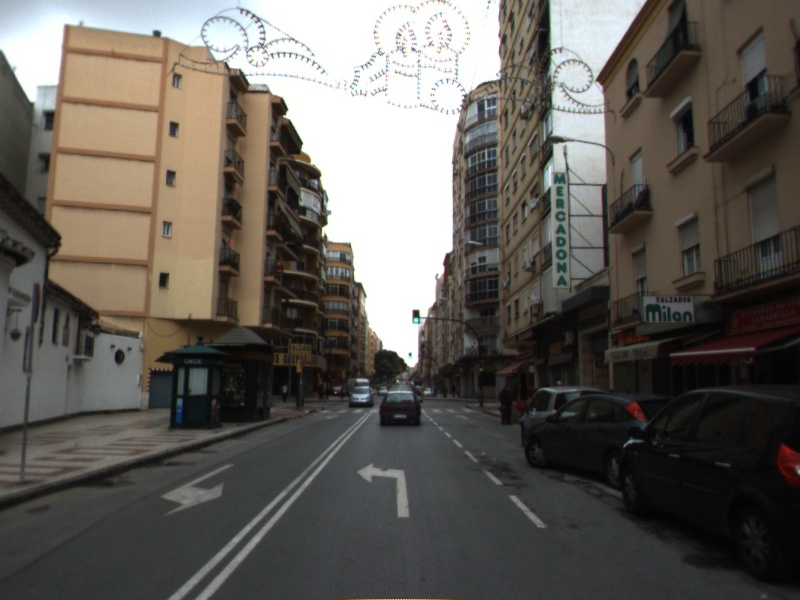LEFT: (355, 462, 411, 519)
